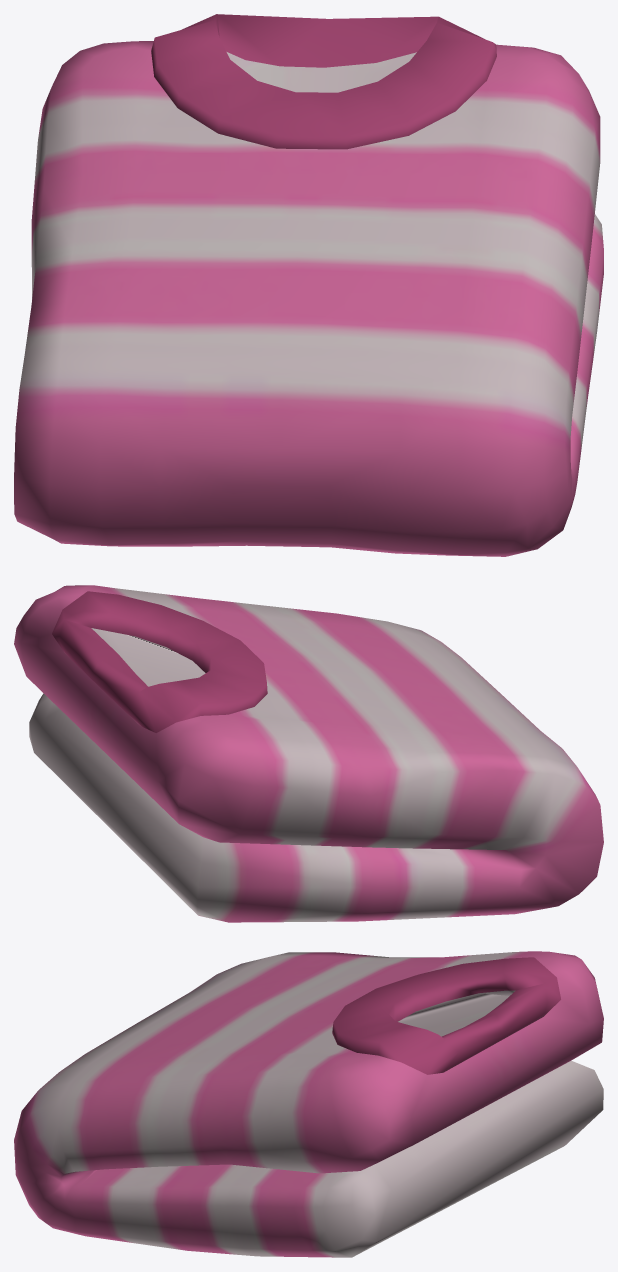
Rendered from UnitIconTops.glb.
The picture shows the model from 3 angles, top to bottom: view 1: azimuth 30°, elevation 25°; view 2: azimuth 150°, elevation 25°; view 3: azimuth 270°, elevation 25°; orthographic projection. The views are drawn at different scales.
Parts seen in each view (by area): view 1: Body__mBody; view 2: Body__mBody; view 3: Body__mBody.
Boxes of the visible parts, x1=… form: Body__mBody: x1=14, y1=14, x2=603, y2=556; Body__mBody: x1=14, y1=585, x2=603, y2=922; Body__mBody: x1=14, y1=951, x2=603, y2=1257.
Bounding box in the file's own units: 5.21 × 2.5 × 5.2.
1 material, 1 textured.
